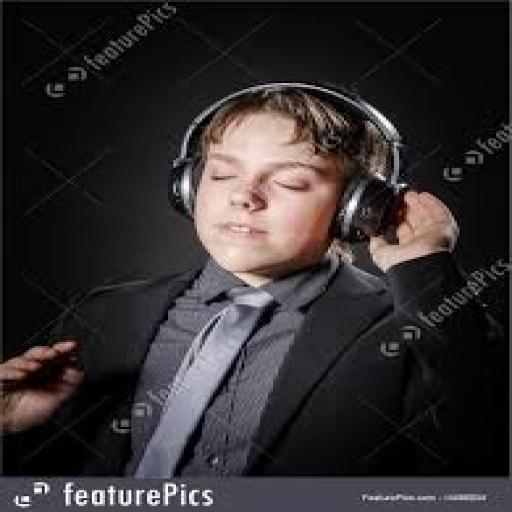listening_to_music: (0, 79, 504, 478)
